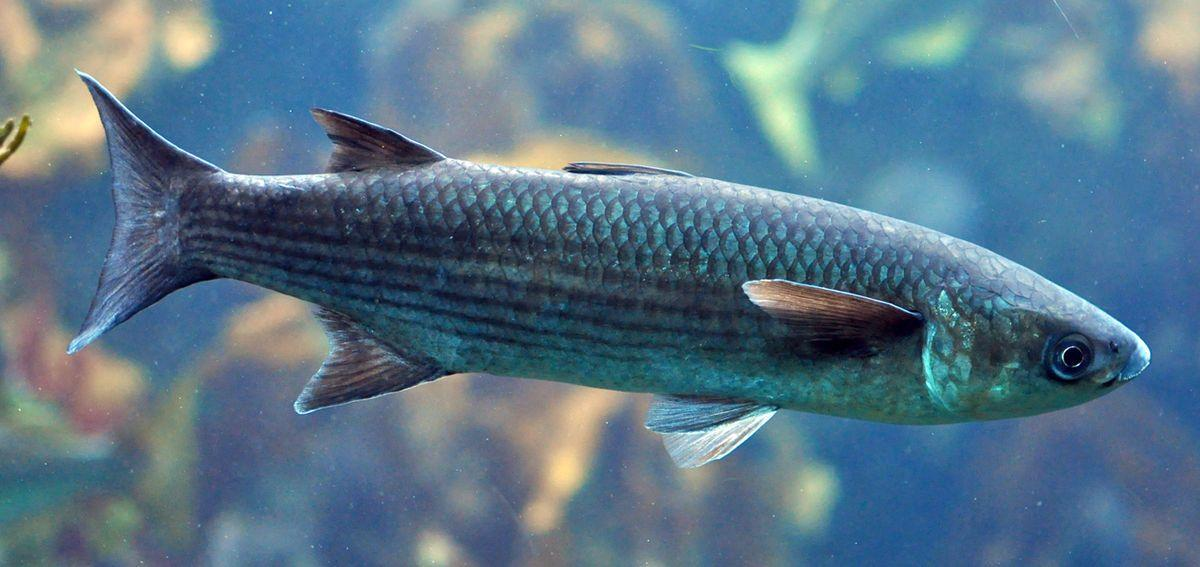Mullet: (62, 60, 1155, 478)
